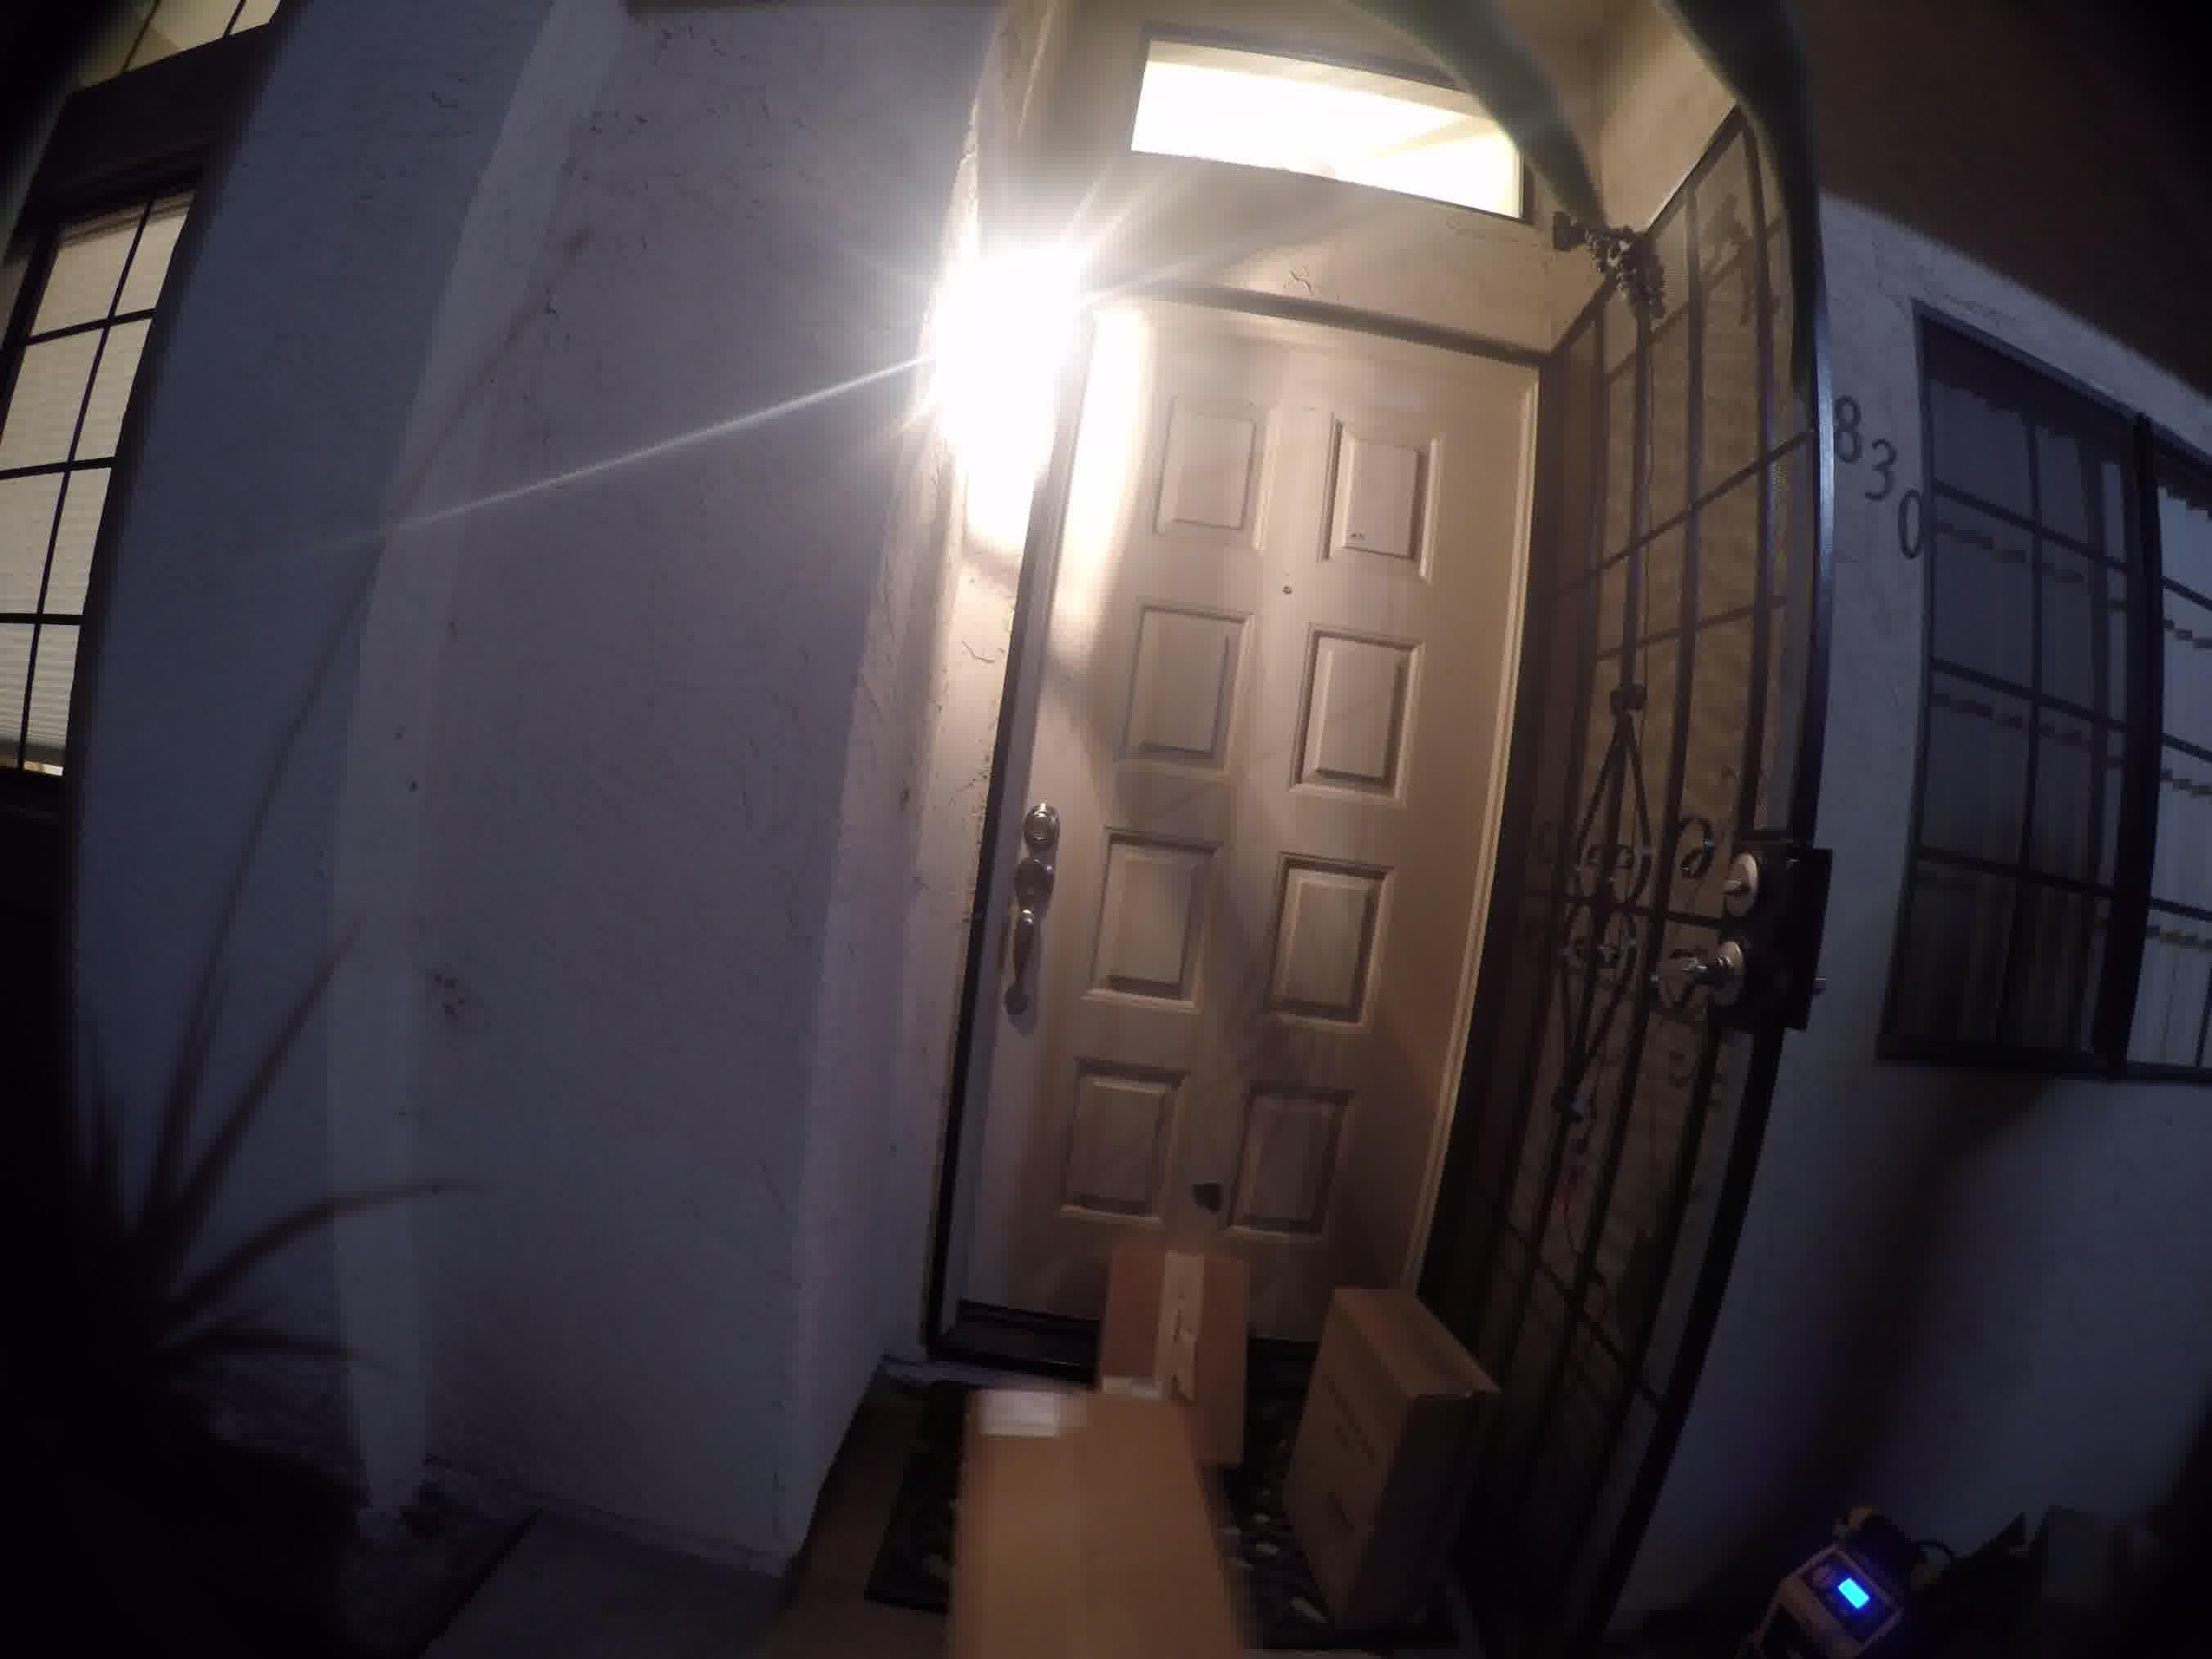box: (967, 1373, 1240, 1659), (1331, 1272, 1505, 1610), (1113, 1204, 1278, 1377)
